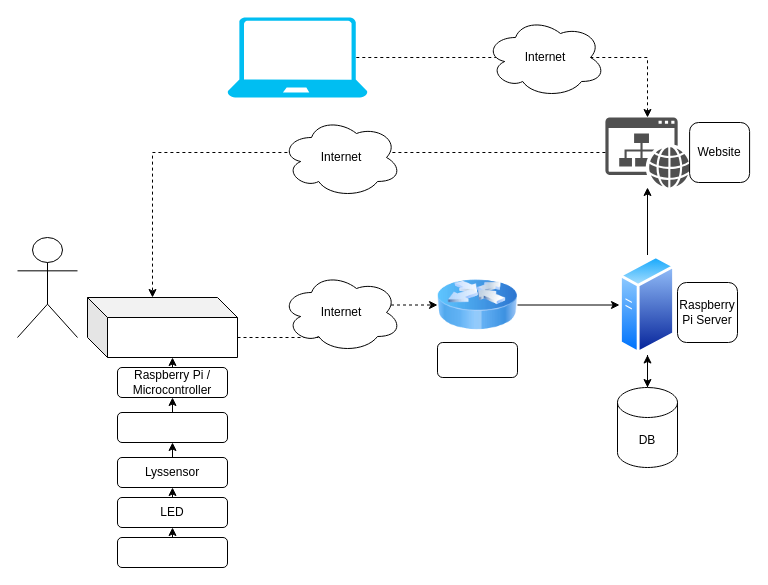
This 768x585 diagram has some shape labels left out. The shapes that lost their labels are listed below. From the top down, each one's centre as x and y in pixels, then its label:
At (x=47, y=287): "Actor".
At (x=162, y=327): "Tandbørsteholder".
At (x=477, y=360): "IP: ???".
At (x=172, y=427): "Kamera".
At (x=172, y=552): "Buzzer".
